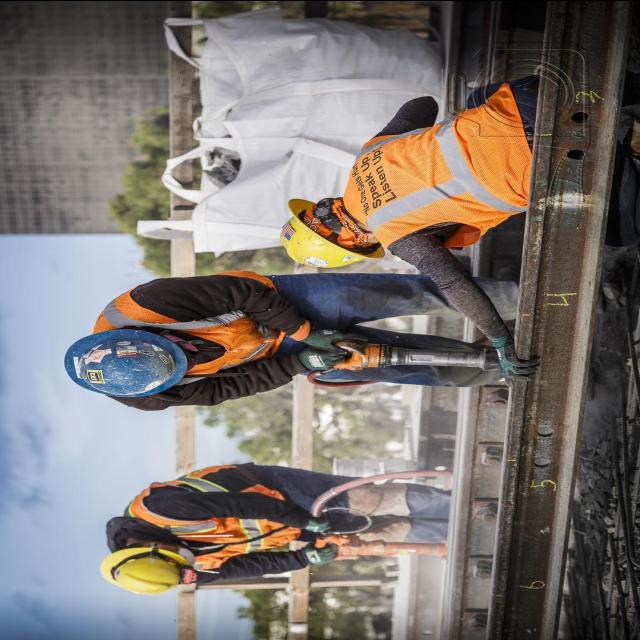helmet: (56, 322, 188, 406), (264, 188, 382, 268), (89, 536, 204, 600)
